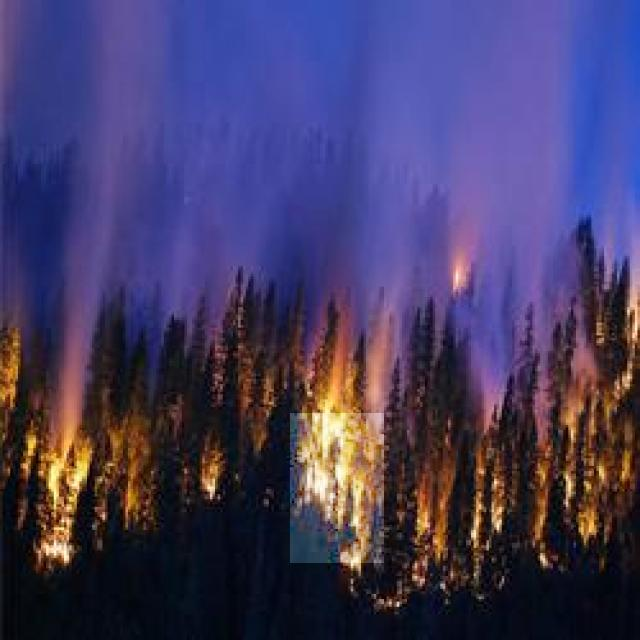Fire: (290, 414, 384, 564), (45, 445, 93, 546)
